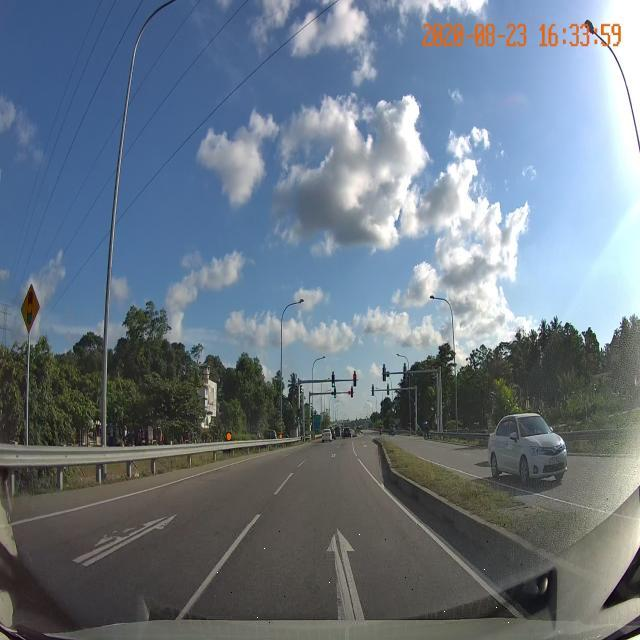forward: (176, 524, 523, 623)
